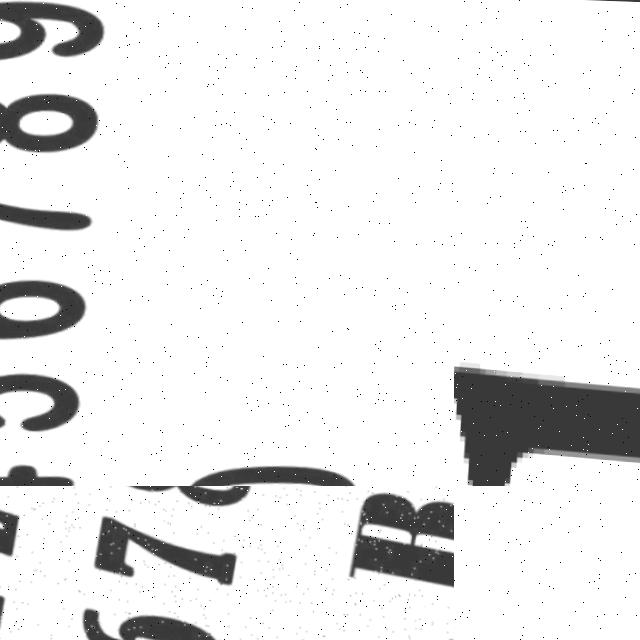0: (145, 433, 393, 486)
5: (0, 349, 101, 454)
6: (0, 254, 99, 360), (53, 589, 237, 640)
7: (66, 506, 260, 608), (0, 159, 115, 259)
8: (0, 69, 102, 175), (79, 486, 270, 525)
9: (0, 0, 115, 84)
H: (454, 135, 640, 486)
